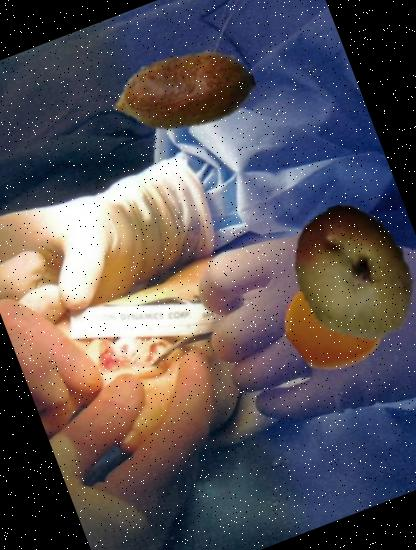Nut: (91, 0, 276, 184)
Papaya: (262, 182, 416, 364)
Physalis: (271, 250, 407, 386)
